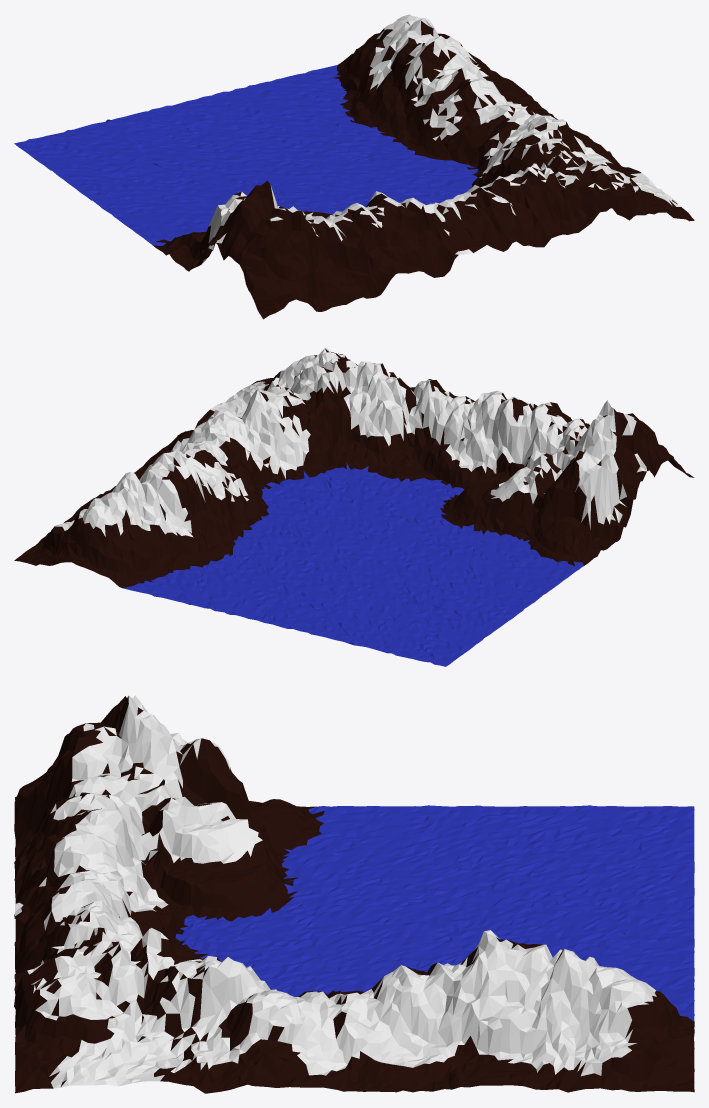
The model's file is sixth.fbx.
3 renders of one model, top to bottom at view 1: azimuth 30°, elevation 25°; view 2: azimuth 150°, elevation 25°; view 3: azimuth 270°, elevation 25°, orthographic. The views are drawn at different scales.
Visible parts, largest first — view 1: sixth; view 2: sixth; view 3: sixth.
Part boxes in pixels (x1=…): sixth: x1=14, y1=14, x2=694, y2=319; sixth: x1=14, y1=348, x2=694, y2=666; sixth: x1=14, y1=695, x2=694, y2=1093.
Size of the model in its own units: 50104 by 11592 by 50125.
